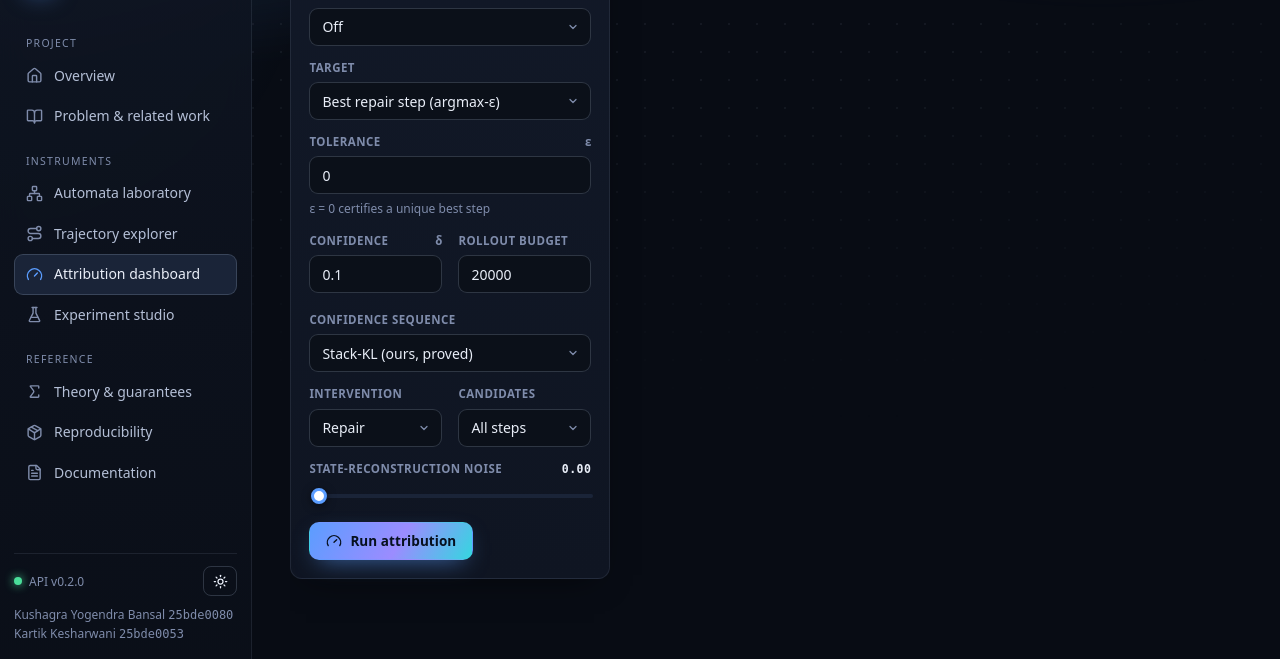
Scenario: attribution dashboard › shows API errors
(page scrolled)
Click the button with test id "run-attribution" at (391, 541), box [309, 522, 473, 560]
(page scrolled)
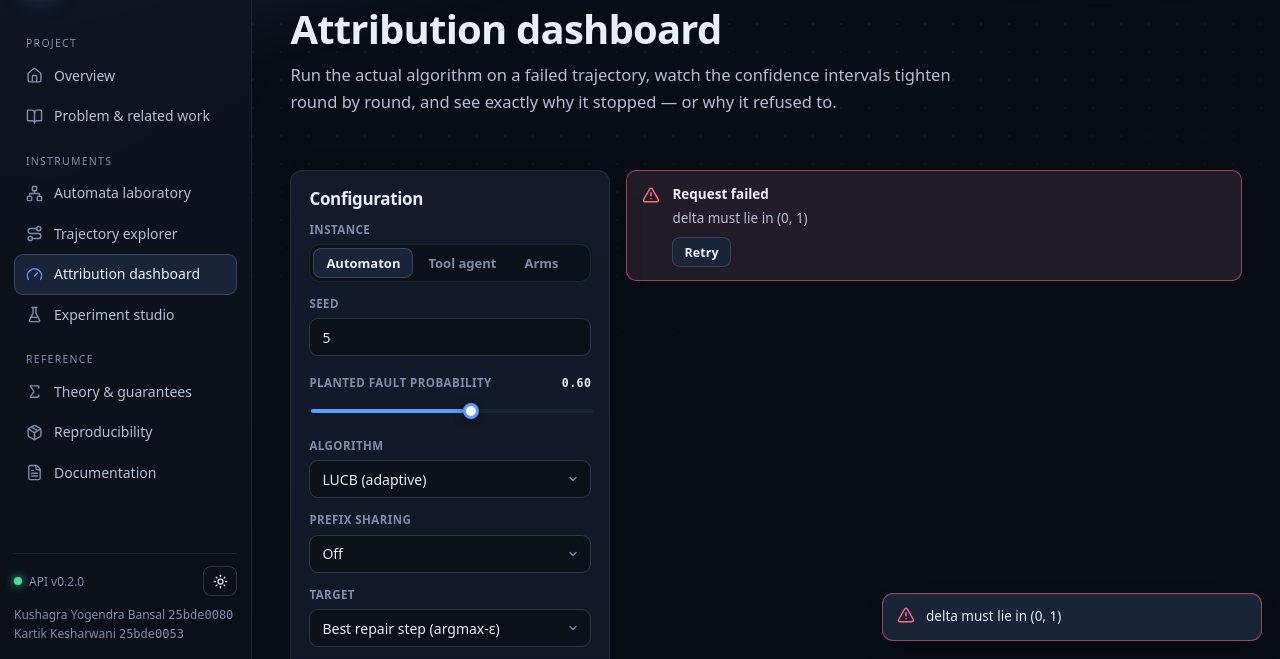
Now the text with test id "error-message" shows "delta must lie", box [672, 209, 808, 227]
